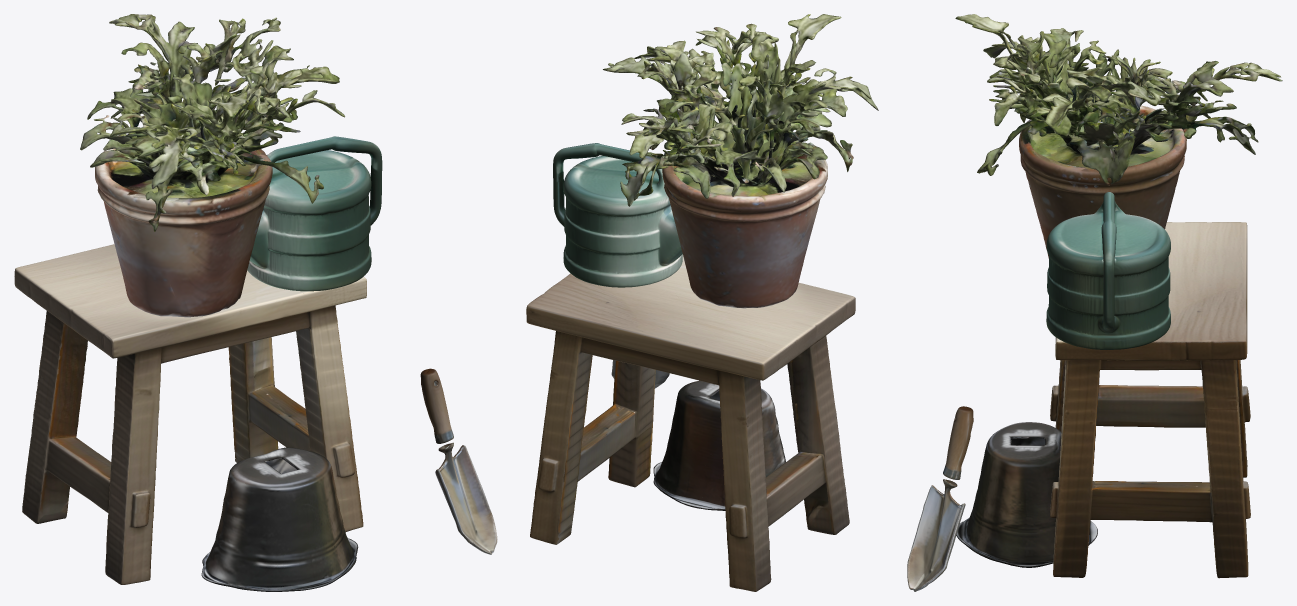
The model's file is midi_textured.glb.
3 views of the same model, side by side, from view 1: azimuth 30°, elevation 25°; view 2: azimuth 150°, elevation 25°; view 3: azimuth 270°, elevation 25° (orthographic). The views are drawn at different scales.
Parts seen in each view (by area): view 1: geometry_02a079bd73e27, geometry_0643ca9188193, geometry_0a02d2517fe60, geometry_0, geometry_04a862caf98db; view 2: geometry_02a079bd73e27, geometry_0643ca9188193, geometry_0, geometry_0a02d2517fe60; view 3: geometry_02a079bd73e27, geometry_0643ca9188193, geometry_0, geometry_0a02d2517fe60, geometry_04a862caf98db.
Boxes of the visible parts, x1,y1,x2,y2 form: geometry_02a079bd73e27: (14,244,366,584); geometry_0643ca9188193: (80,14,344,317); geometry_0a02d2517fe60: (201,447,358,591); geometry_0: (247,136,382,291); geometry_04a862caf98db: (420,368,497,554); geometry_02a079bd73e27: (526,254,855,591); geometry_0643ca9188193: (603,14,878,308); geometry_0: (553,143,682,287); geometry_0a02d2517fe60: (653,380,785,510); geometry_02a079bd73e27: (1050,222,1250,578); geometry_0643ca9188193: (955,14,1282,258); geometry_0: (1046,192,1170,349); geometry_0a02d2517fe60: (956,422,1097,567); geometry_04a862caf98db: (907,406,973,591).
Bounding box in the file's own units: 1.3 × 1.93 × 1.37.
Materials: 5 (5 with a texture image).
